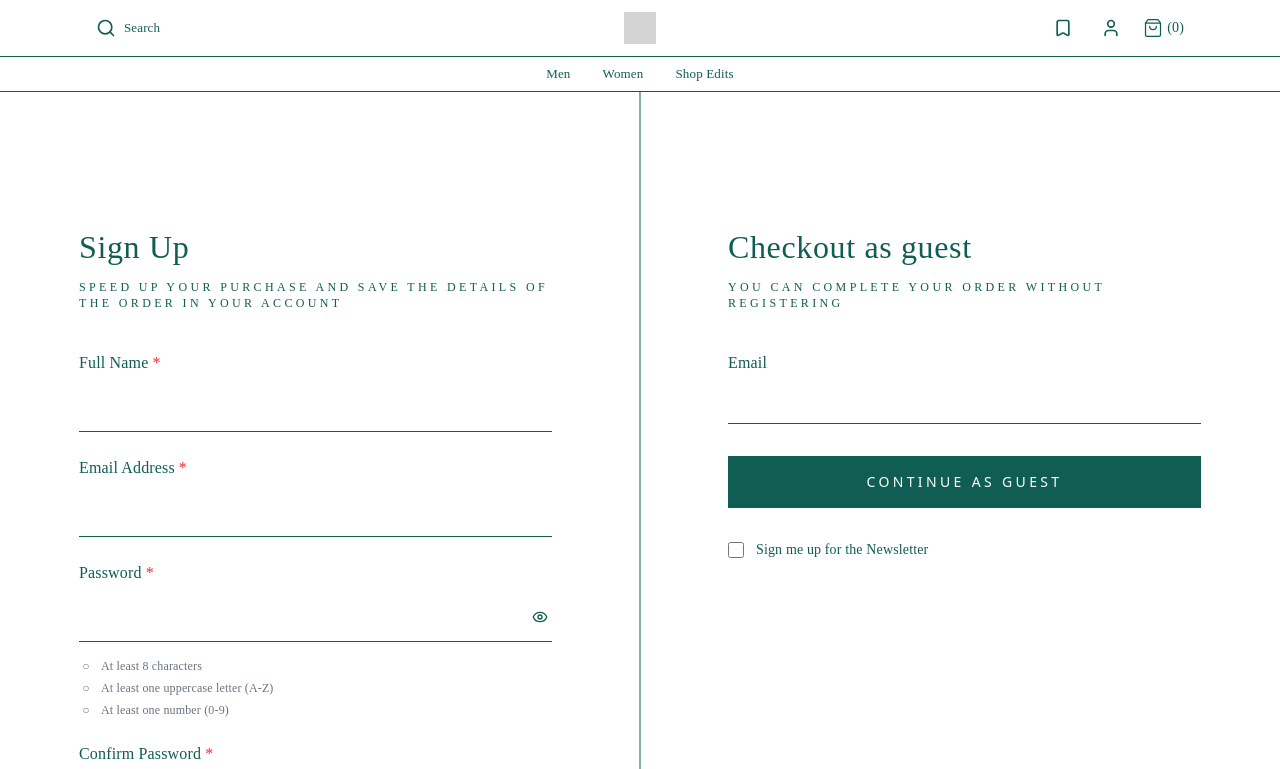
Registration Validation › validates email format on blur and updates when typed
Type "invalid-email" into the field labelled "Email Address*".
click(316, 512); type("invalid-email")  # box [79,488,552,537]
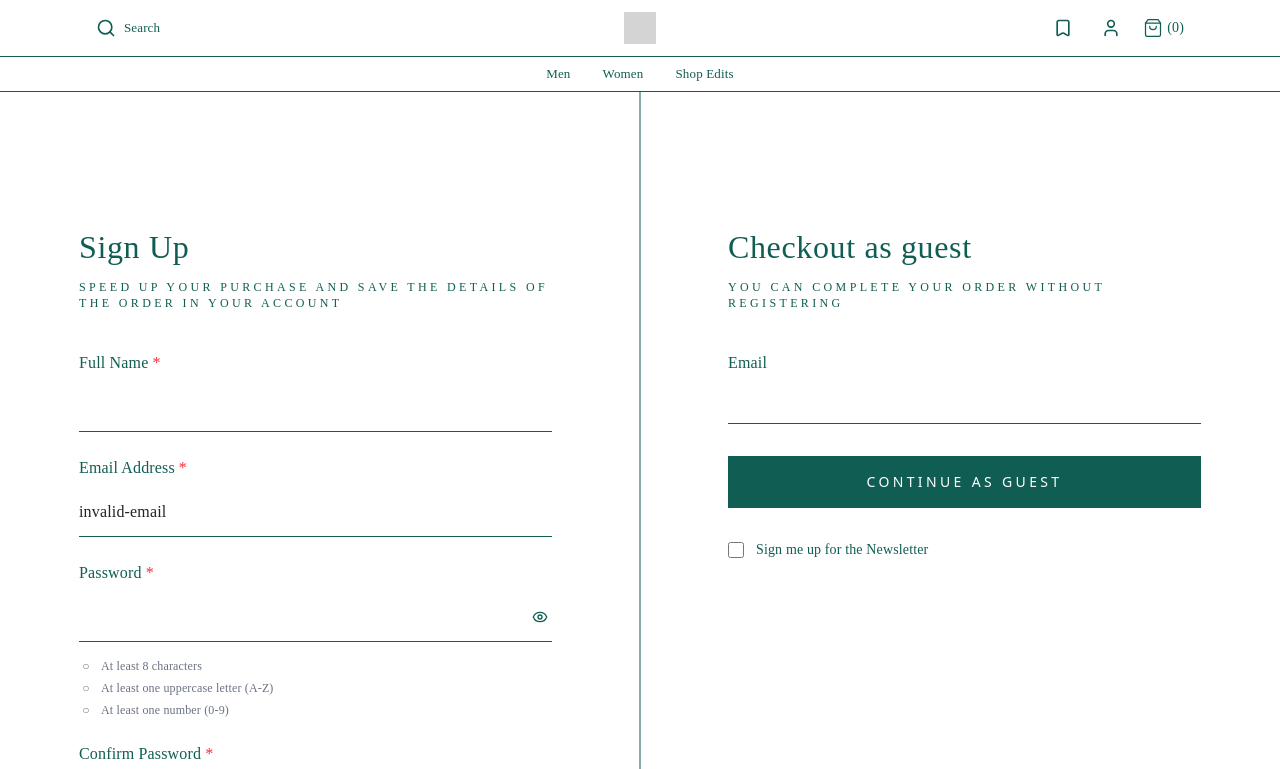
Leave the field labelled "Email Address*", box [79,488,552,537]
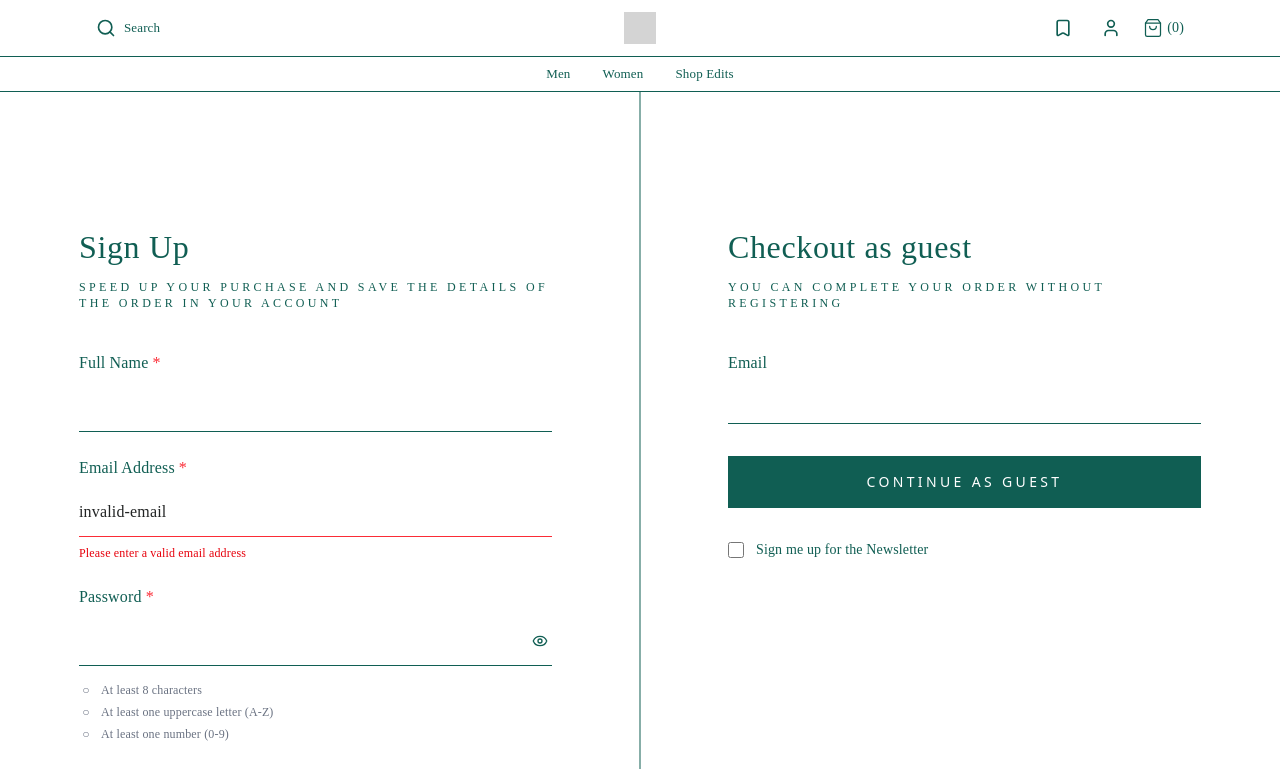
Check: the text "Please enter a valid email address" is shown, box [79,546,246,560]
Note: Now correct it
Replace the text in the field labelled "Email Address*" with "valid@example.com" at (316, 512), box [79,488,552,537]
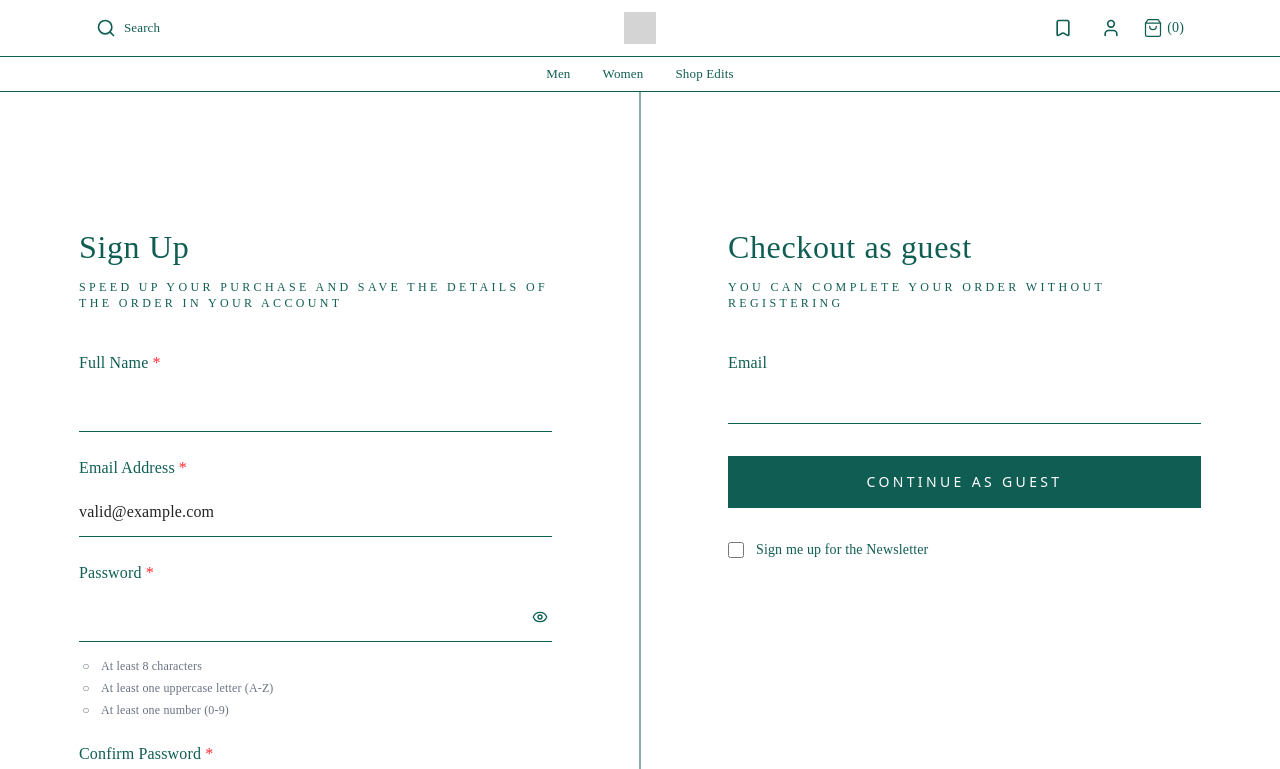
Check: the text "Please enter a valid email address" is gone
